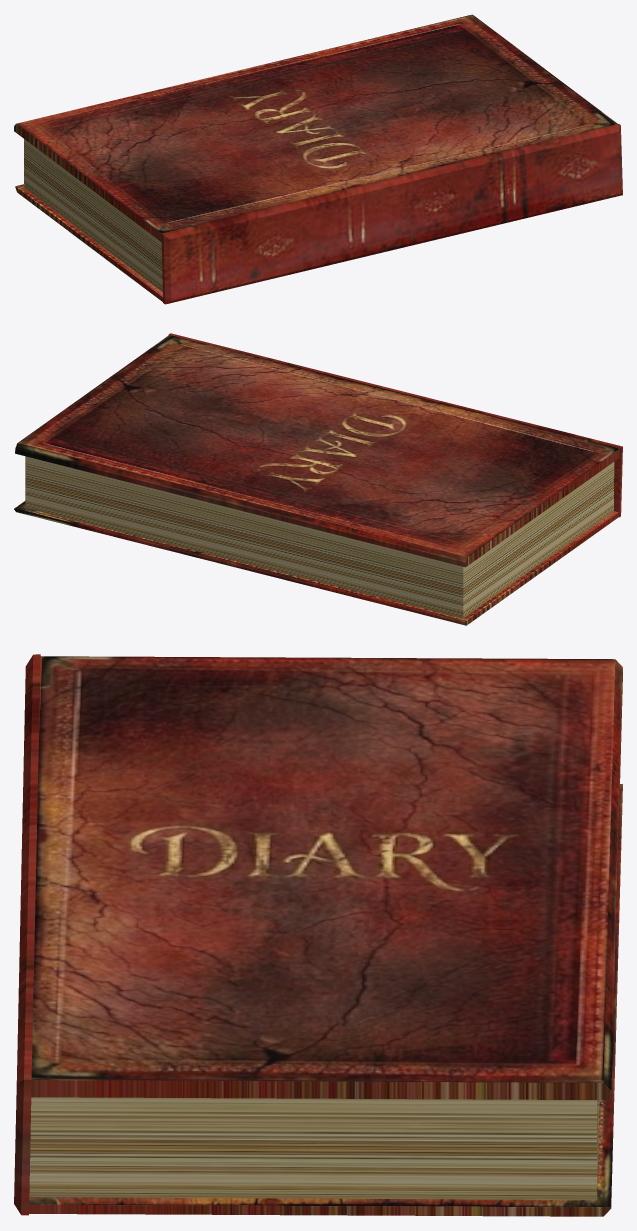
Rendered from diary.fbx.
3 renders of one model, top to bottom at view 1: azimuth 30°, elevation 25°; view 2: azimuth 150°, elevation 25°; view 3: azimuth 270°, elevation 25°, orthographic. The views are drawn at different scales.
Parts seen in each view (by area): view 1: Plane.004; view 2: Plane.004; view 3: Plane.004.
Boxes of the visible parts, left/top/right/bottom form: Plane.004: left=14, top=14, right=622, bottom=304; Plane.004: left=14, top=333, right=622, bottom=625; Plane.004: left=14, top=654, right=622, bottom=1216.
Size of the model in its own units: 49.29 by 7.25 by 29.48.
